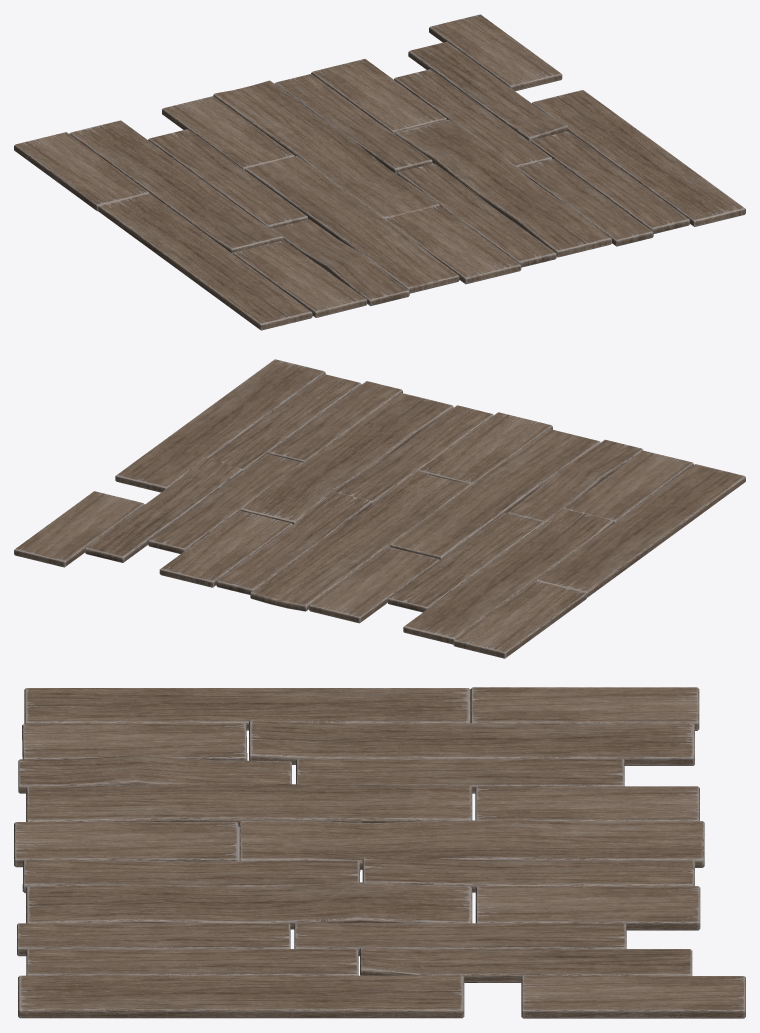
File: Plank_floor.fbx
3 views of the same model, one above another, from view 1: azimuth 30°, elevation 25°; view 2: azimuth 150°, elevation 25°; view 3: azimuth 270°, elevation 25° (orthographic). The views are drawn at different scales.
Parts seen in each view (by area): view 1: Plank_floor; view 2: Plank_floor; view 3: Plank_floor.
Boxes of the visible parts, x1,y1,x2,y2 form: Plank_floor: (14, 14, 745, 330); Plank_floor: (14, 359, 745, 658); Plank_floor: (14, 687, 745, 1018).
Size of the model in its own units: 4.51 by 0.1242 by 4.31.
